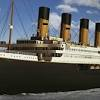tau_dansu: (1, 12, 97, 87)
